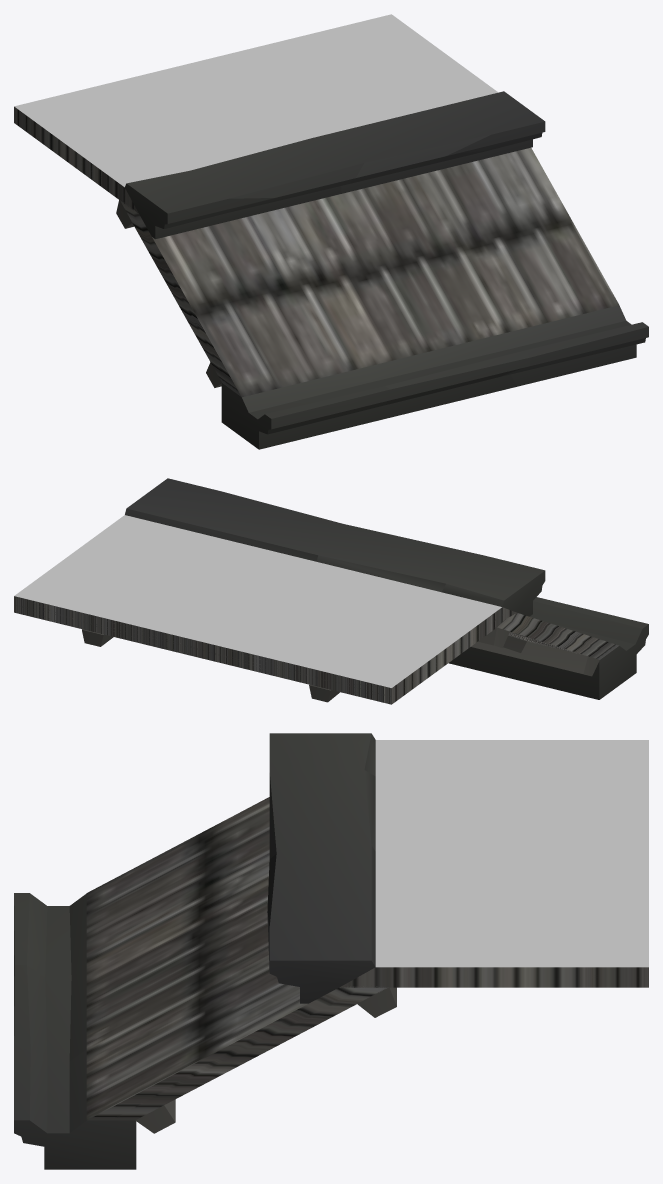
File: ROOF FLAT 2.fbx
3 renders of one model, top to bottom at view 1: azimuth 30°, elevation 25°; view 2: azimuth 150°, elevation 25°; view 3: azimuth 270°, elevation 25°, orthographic. The views are drawn at different scales.
Visible parts, largest first — view 1: RoofFlat2; view 2: RoofFlat2; view 3: RoofFlat2.
Boxes of the visible parts, x1=… form: RoofFlat2: x1=14, y1=14, x2=648, y2=449; RoofFlat2: x1=14, y1=478, x2=648, y2=704; RoofFlat2: x1=14, y1=733, x2=648, y2=1169.
Size of the model in its own units: 250 by 107 by 295.
